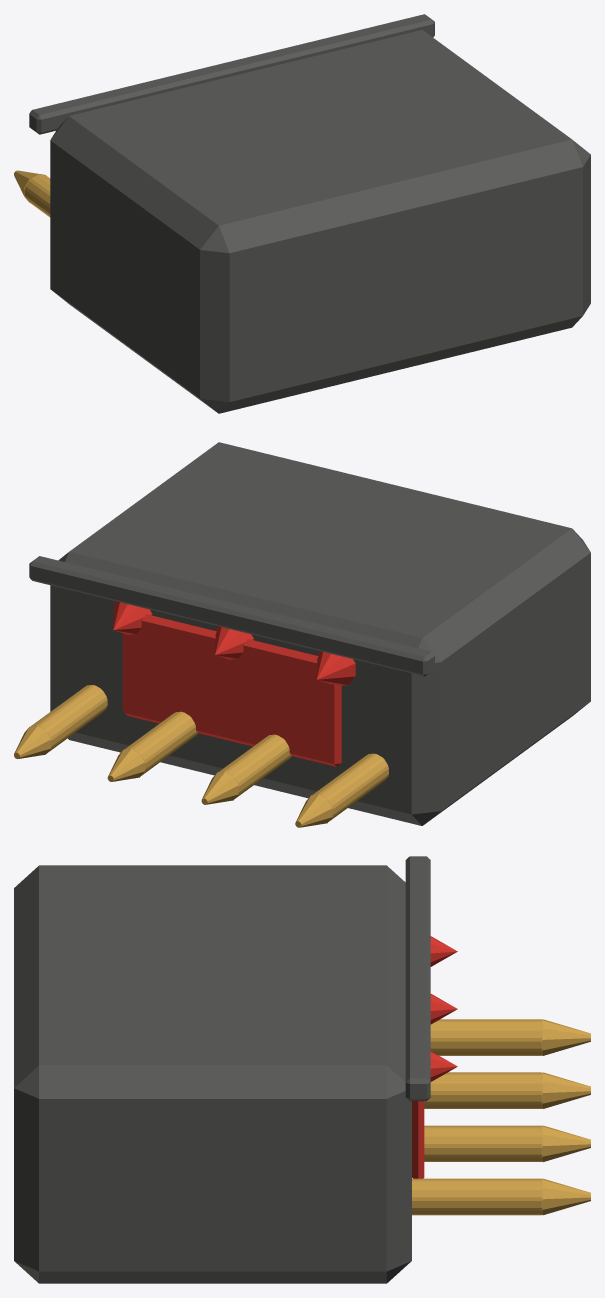
File: item_ammo_ap.glb
3 views of the same model, one above another, from view 1: azimuth 30°, elevation 25°; view 2: azimuth 150°, elevation 25°; view 3: azimuth 270°, elevation 25° (orthographic). The views are drawn at different scales.
Visible parts, largest first — view 1: item_ammo_ap; view 2: item_ammo_ap; view 3: item_ammo_ap.
Boxes of the visible parts, <box> form: item_ammo_ap: <box>14,14,590,413</box>; item_ammo_ap: <box>14,442,590,827</box>; item_ammo_ap: <box>14,856,590,1283</box>.
Size of the model in its own units: 0.255 by 0.115 by 0.2755.
